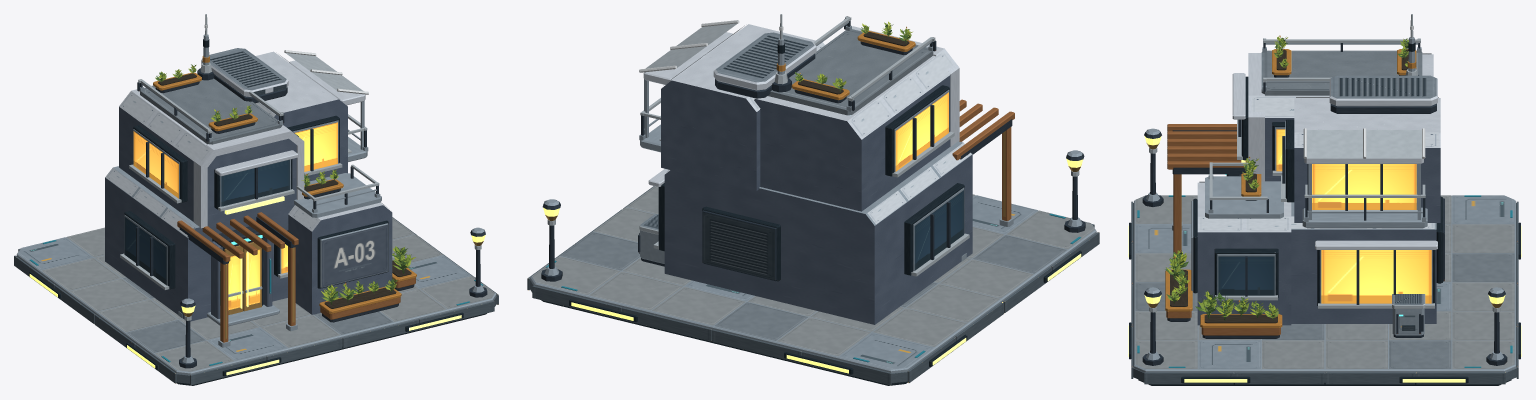
The model's file is N3_ViviendaFamiliar.fbx.
3 views of the same model, side by side, from view 1: azimuth 30°, elevation 25°; view 2: azimuth 150°, elevation 25°; view 3: azimuth 270°, elevation 25° (orthographic). The views are drawn at different scales.
Parts seen in each view (by area): view 1: N3_ViviendaFamiliar; view 2: N3_ViviendaFamiliar; view 3: N3_ViviendaFamiliar.
Part boxes in pixels (box(x1,y1,x2,y2)): N3_ViviendaFamiliar: box(14, 14, 498, 385); N3_ViviendaFamiliar: box(527, 14, 1099, 385); N3_ViviendaFamiliar: box(1128, 14, 1521, 385).
Size of the model in its own units: 8.03 by 5.84 by 7.43.
